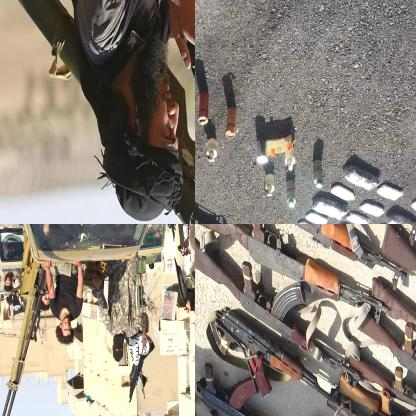rifle: (0, 0, 194, 223), (195, 241, 355, 374), (195, 224, 388, 324), (195, 224, 384, 324), (217, 310, 340, 408), (261, 224, 409, 289), (196, 364, 314, 415), (358, 311, 415, 415), (369, 280, 415, 400), (346, 353, 415, 415), (339, 372, 415, 415)
